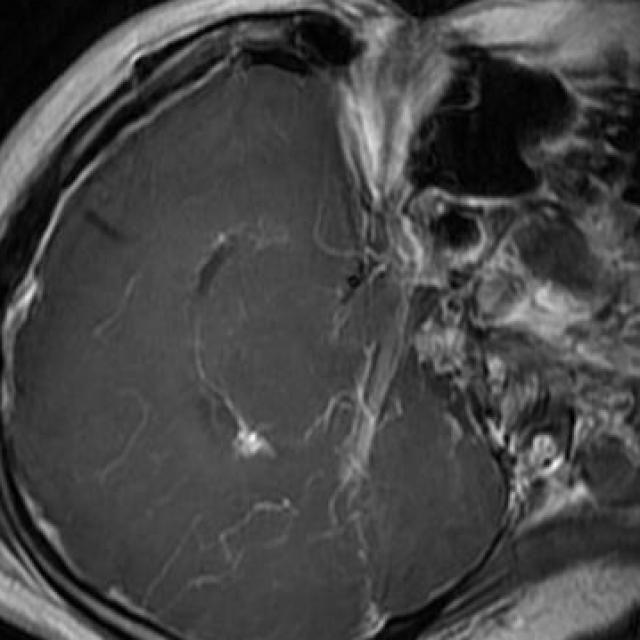glioma: (225, 401, 275, 460)
